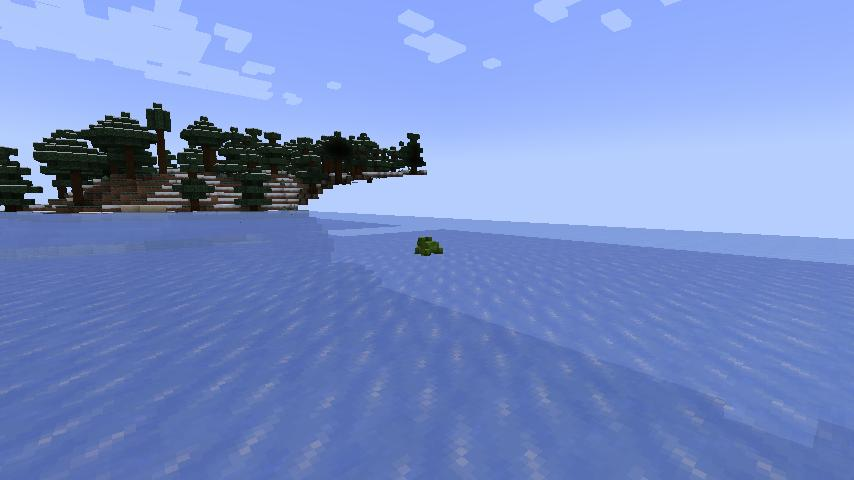frog: (412, 232, 446, 260)
